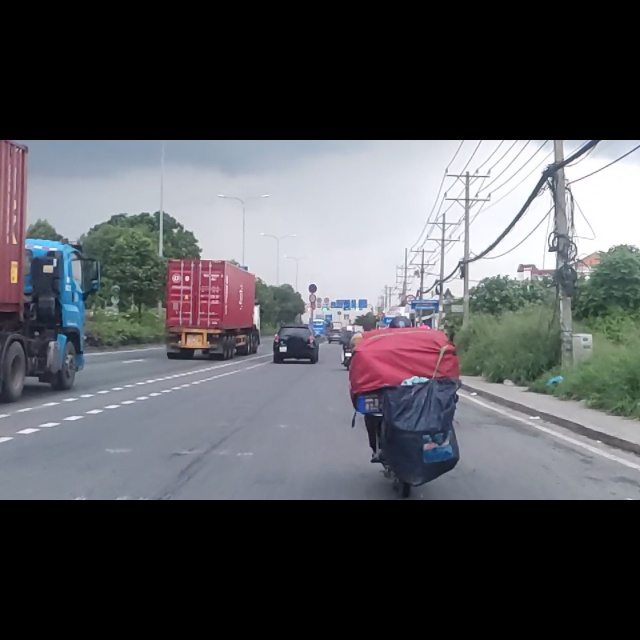bien_cam: (308, 255, 318, 273)
